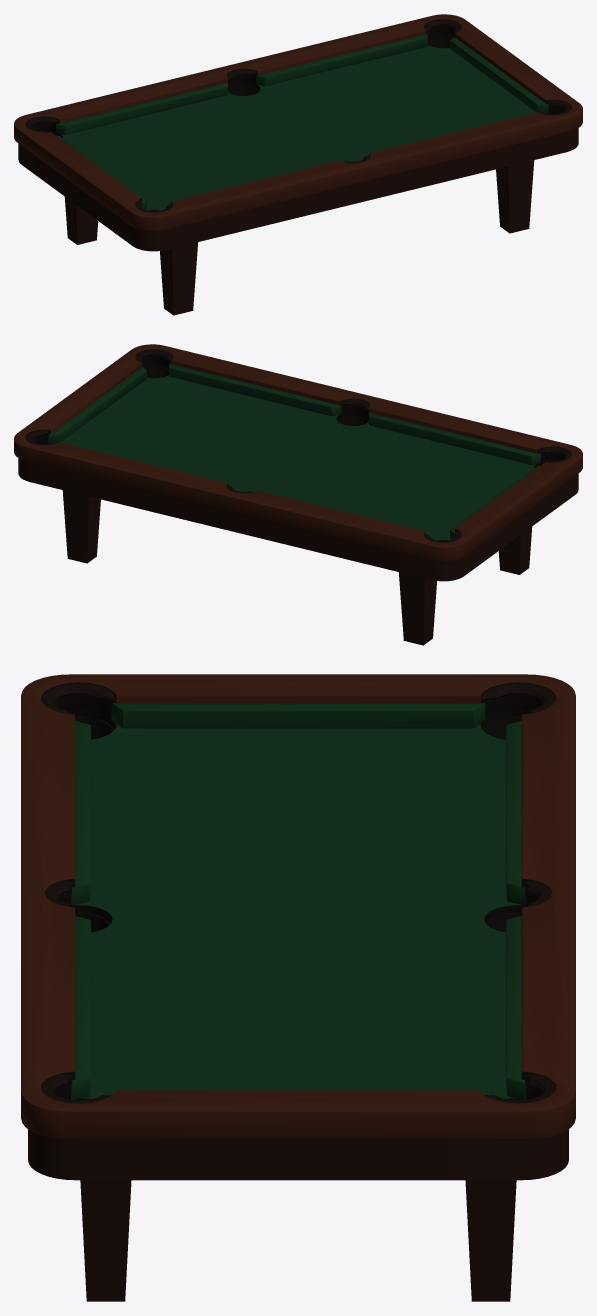
Rendered from PoolTable.obj.
3 renders of one model, top to bottom at view 1: azimuth 30°, elevation 25°; view 2: azimuth 150°, elevation 25°; view 3: azimuth 270°, elevation 25°, orthographic. The views are drawn at different scales.
Visible parts, largest first — view 1: Pool_Table; view 2: Pool_Table; view 3: Pool_Table.
Part boxes in pixels (x1,y1,x2,y2): Pool_Table: [14, 14, 582, 315]; Pool_Table: [14, 344, 582, 645]; Pool_Table: [21, 674, 575, 1301].
Bounding box in the file's own units: 3.44 × 0.863 × 1.84.
